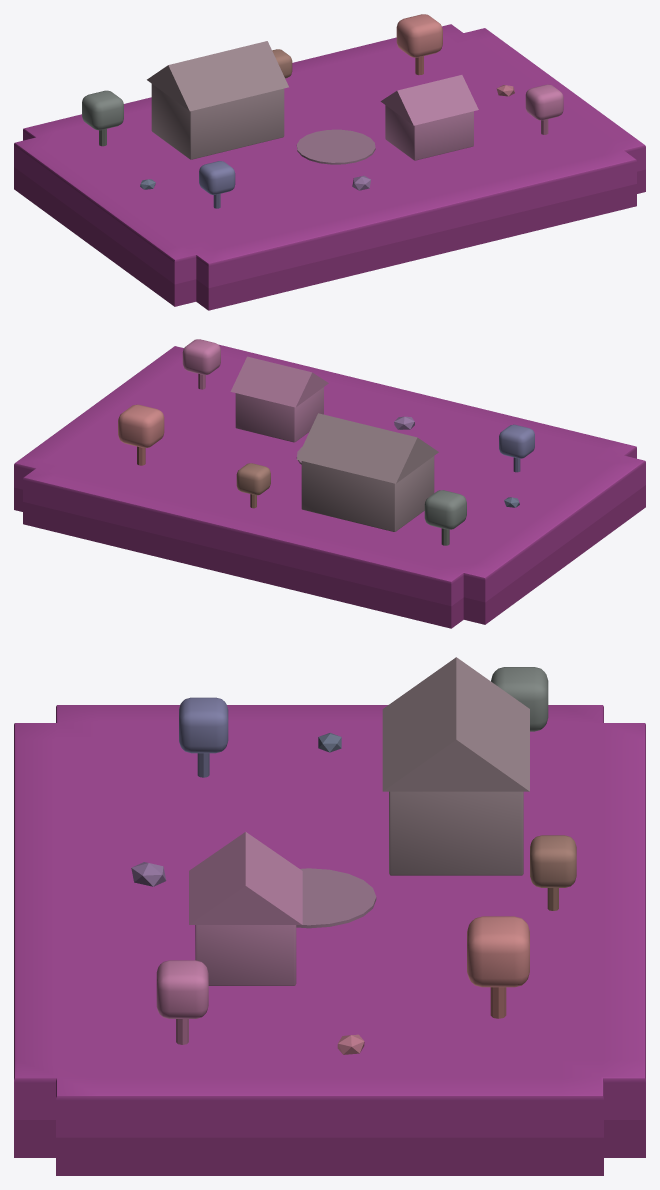
File: placeholder.glb
3 renders of one model, top to bottom at view 1: azimuth 30°, elevation 25°; view 2: azimuth 150°, elevation 25°; view 3: azimuth 270°, elevation 25°, orthographic. The views are drawn at different scales.
Visible parts, largest first — view 1: Terrain.001, Buildings, Trees, Props; view 2: Terrain.001, Buildings, Trees, Props; view 3: Terrain.001, Buildings, Trees, Props.
Part boxes in pixels (x1,y1,x2,y2): Terrain.001: (14, 24, 645, 310); Buildings: (147, 41, 478, 160); Trees: (82, 14, 563, 208); Props: (140, 85, 514, 190); Terrain.001: (14, 344, 645, 628); Buildings: (230, 356, 438, 531); Trees: (118, 339, 534, 545); Props: (296, 416, 519, 507); Terrain.001: (14, 705, 645, 1175); Buildings: (189, 657, 529, 985); Trees: (156, 667, 576, 1044); Props: (131, 733, 376, 1054).
Bounding box in the file's own units: 22 × 5.74 × 15.
